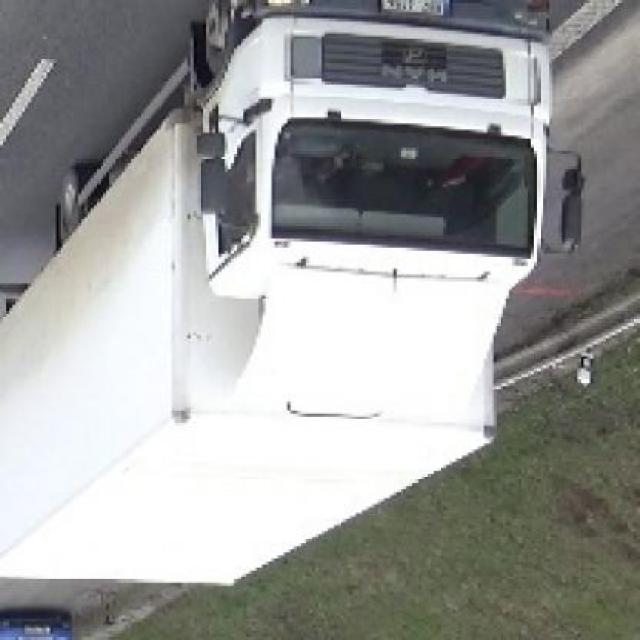truck: (1, 6, 581, 587)
